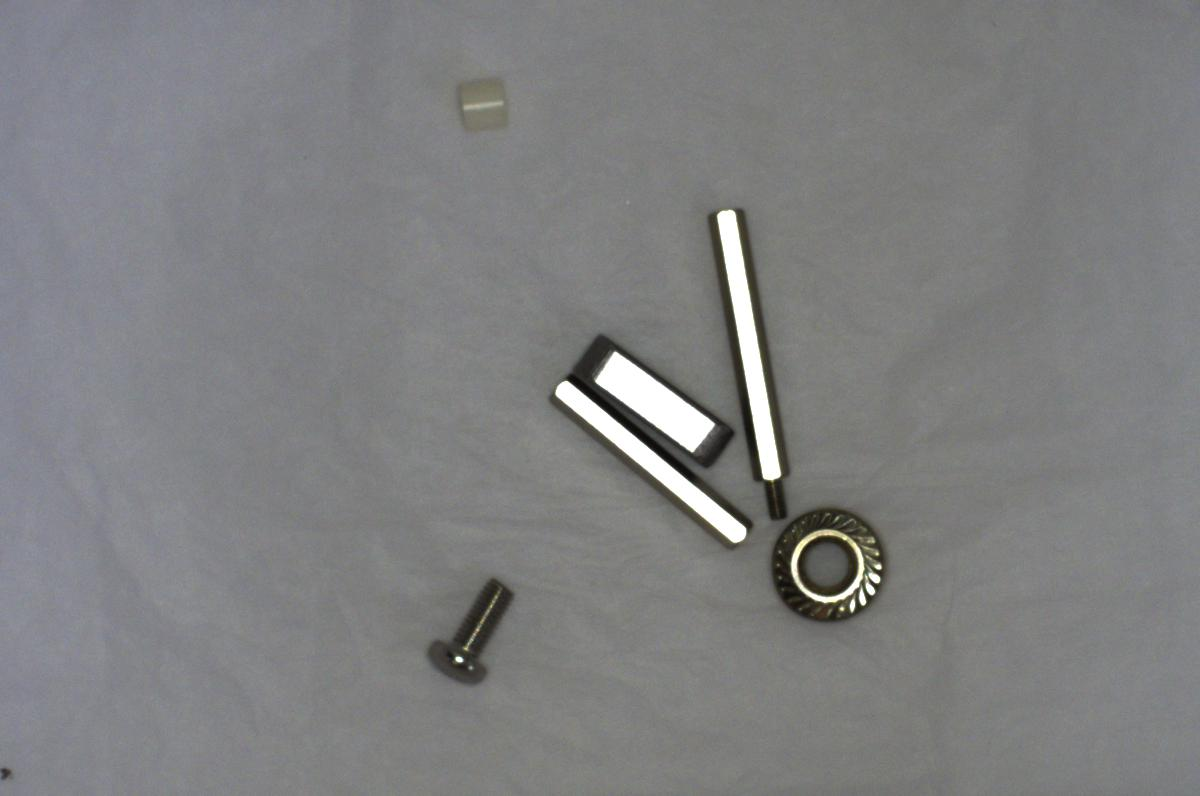Double hexagonal column: (544, 374, 757, 551)
Flange nut: (756, 498, 893, 624)
Hexagonal steel column: (706, 200, 794, 524)
Keybar: (573, 333, 739, 477)
Plastic cushion pillar: (446, 69, 523, 139)
Round head screw: (424, 572, 521, 686)
